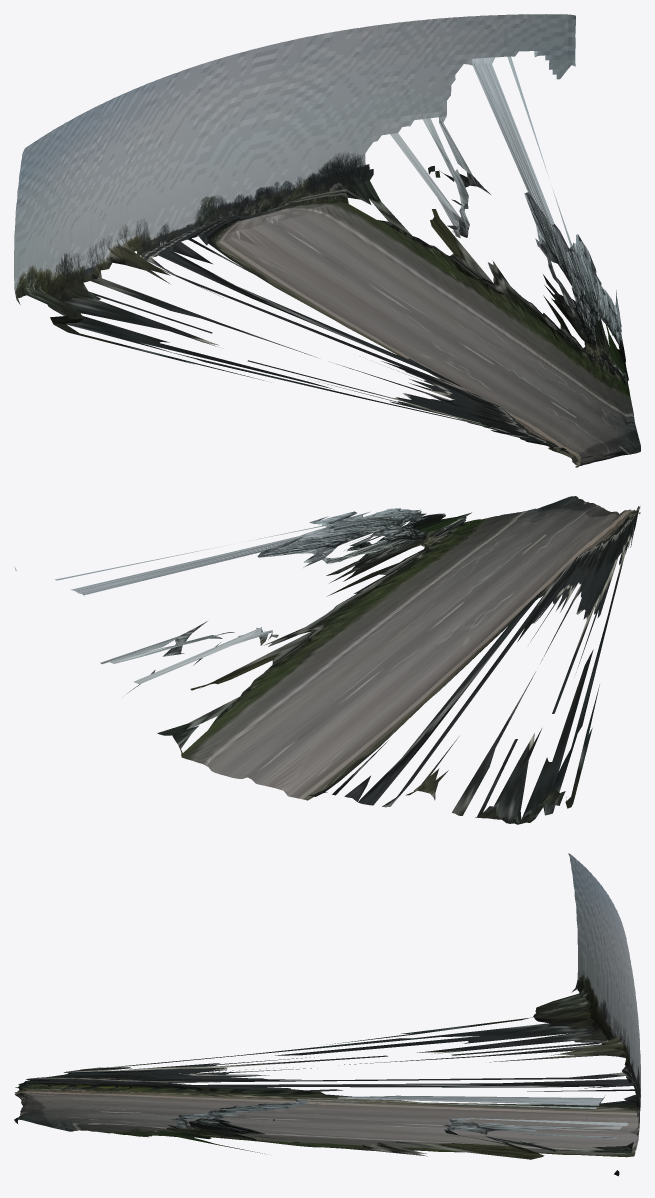
The picture shows the model from 3 angles, top to bottom: view 1: azimuth 30°, elevation 25°; view 2: azimuth 150°, elevation 25°; view 3: azimuth 270°, elevation 25°; orthographic projection. The views are drawn at different scales.
Visible parts, largest first — view 1: defaultobject; view 2: defaultobject; view 3: defaultobject.
Boxes of the visible parts, x1=… form: defaultobject: x1=14, y1=14, x2=640, y2=467; defaultobject: x1=14, y1=496, x2=640, y2=824; defaultobject: x1=14, y1=853, x2=640, y2=1176.
Size of the model in its own units: 41.05 by 13.23 by 44.56.
Materials: 1 (1 with a texture image).
